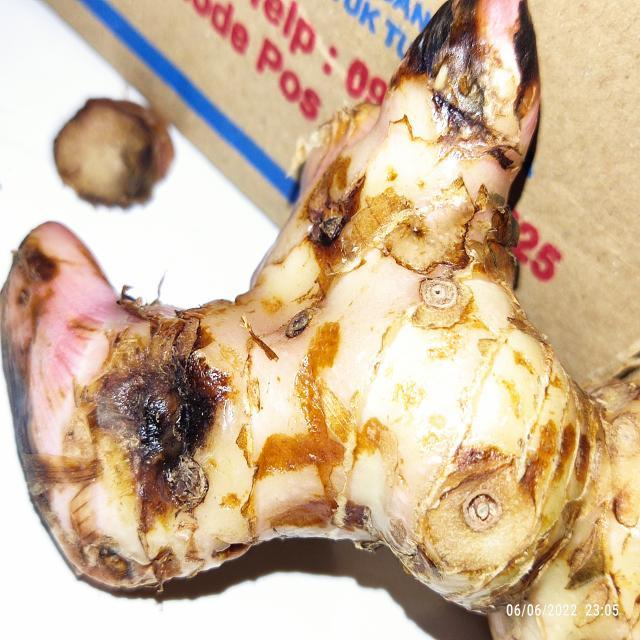ginger: (15, 65, 640, 583)
